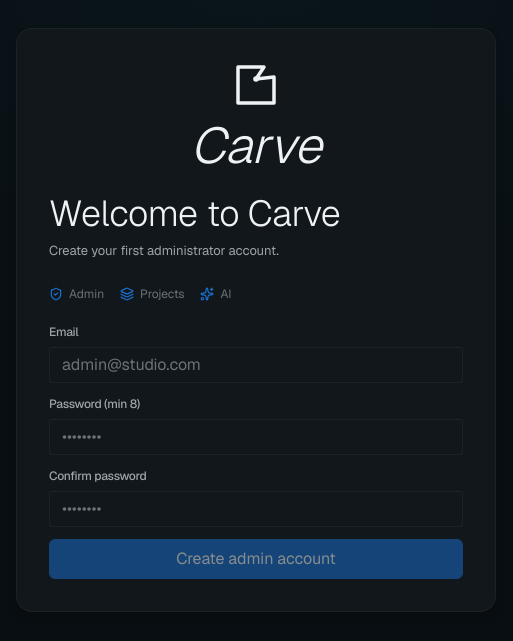
Test: FirstRunWizard › disables submit until passwords match
Type "admin@example.com" into the field labelled "Email" at (256,365), box [49,347,463,383]
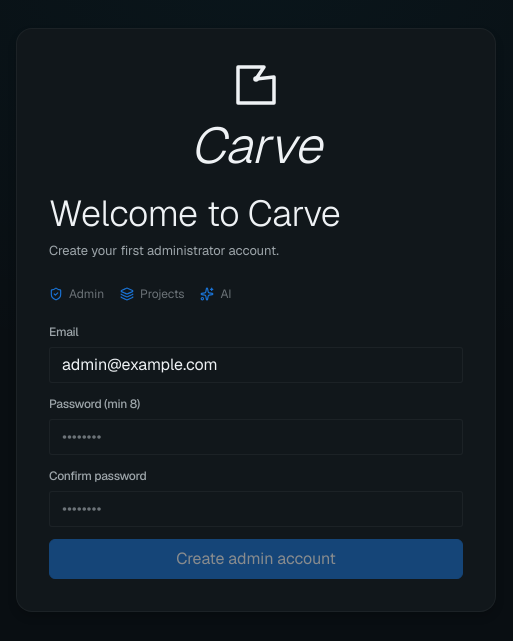
Type "hunter22" into the password field labelled "Password (min 8)" at (256,437), box [49,419,463,455]
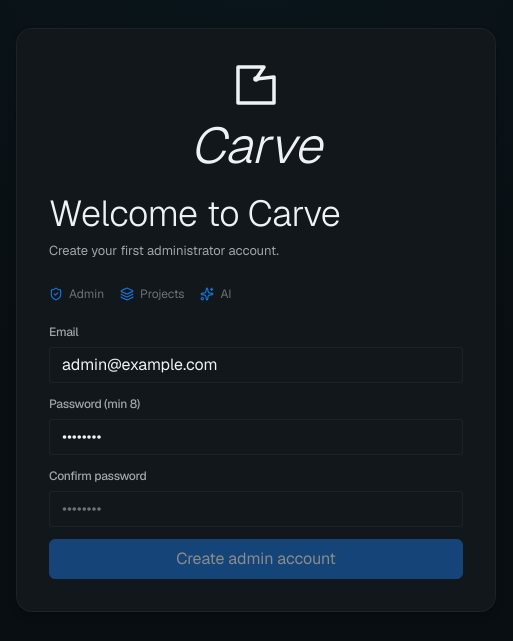
Type "different-value" into the password field labelled "Confirm password" at (256,509), box [49,491,463,527]
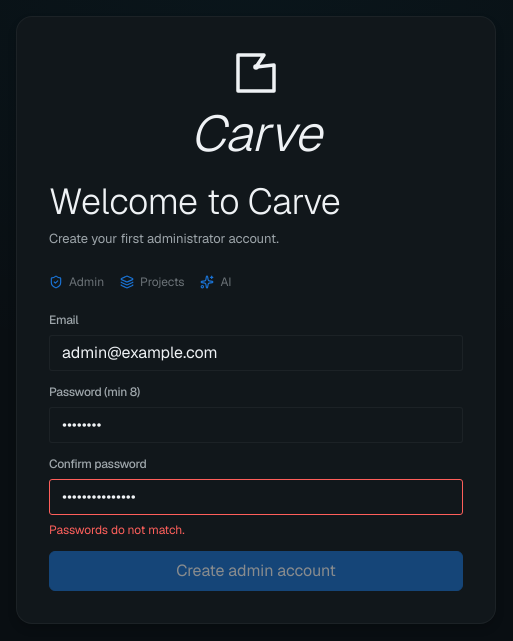
Expected: the button "Create admin account" is disabled, [49,551,463,591]
Type "hunter22" into the password field labelled "Confirm password" at (256,497), box [49,479,463,515]
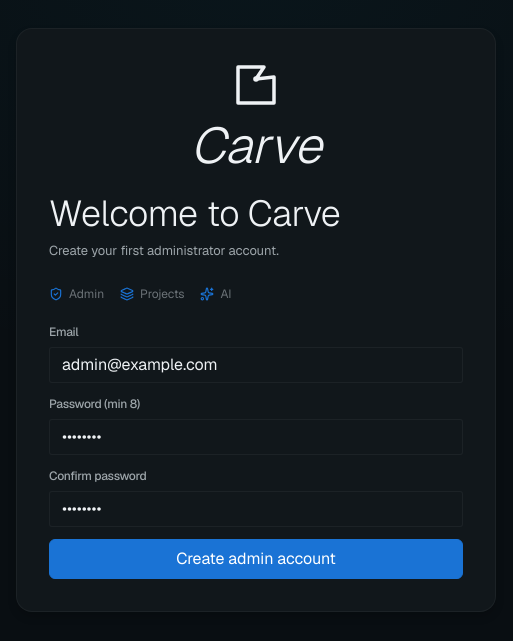
Now the button "Create admin account" is enabled, box [49,539,463,579]
